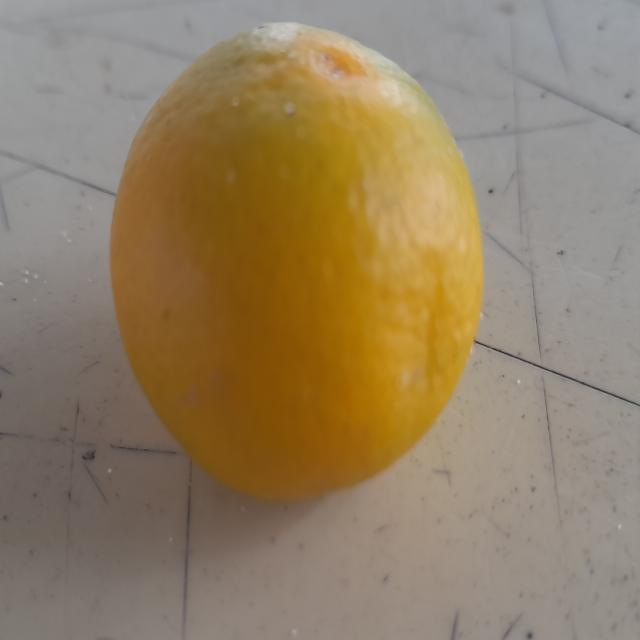greening: (117, 26, 486, 476)
